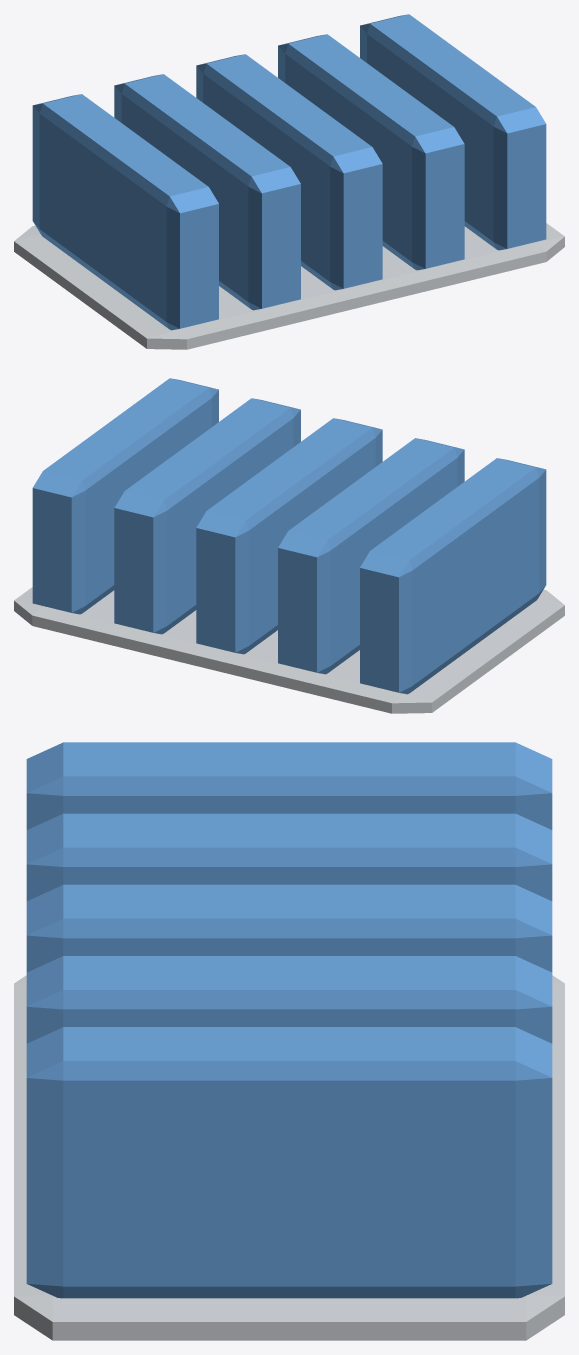
File: b01_accessible_end_picnic_table.glb
The picture shows the model from 3 angles, top to bottom: view 1: azimuth 30°, elevation 25°; view 2: azimuth 150°, elevation 25°; view 3: azimuth 270°, elevation 25°; orthographic projection. The views are drawn at different scales.
Parts seen in each view (by area): view 1: b01_accessible_end_picnic_table; view 2: b01_accessible_end_picnic_table; view 3: b01_accessible_end_picnic_table.
Boxes of the visible parts, <box> form: b01_accessible_end_picnic_table: <box>14,14,564,349</box>; b01_accessible_end_picnic_table: <box>14,378,564,713</box>; b01_accessible_end_picnic_table: <box>14,742,564,1340</box>.
Size of the model in its own units: 2.5 by 0.828 by 1.6.
